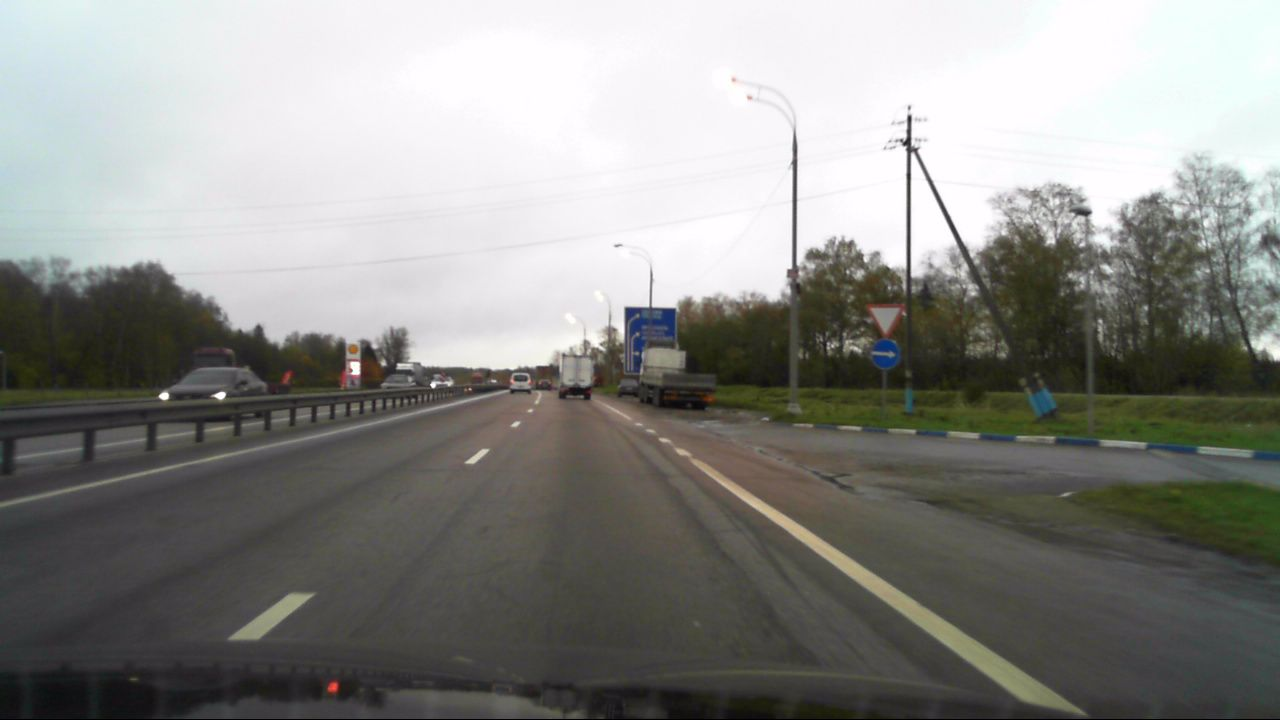Turn Right: (871, 339, 901, 370)
